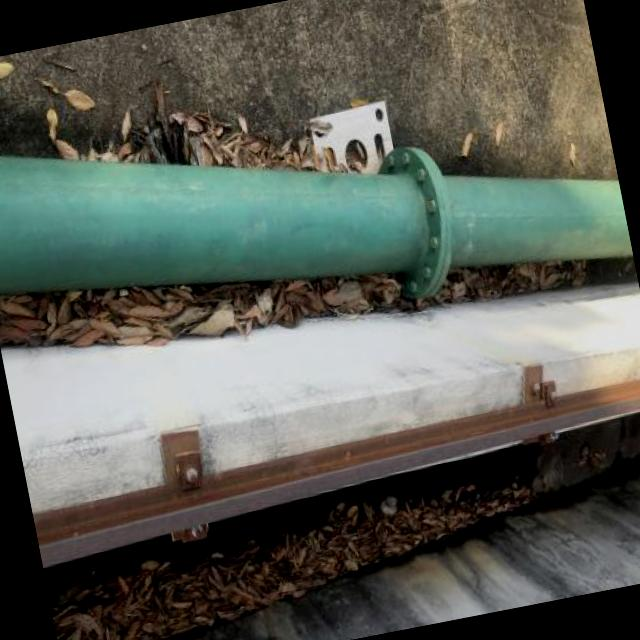gas: (0, 19, 636, 390)
